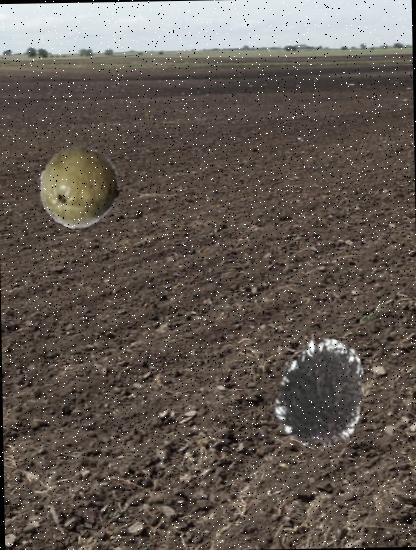Guava: (38, 146, 122, 229)
Rambutan: (267, 337, 379, 449)
